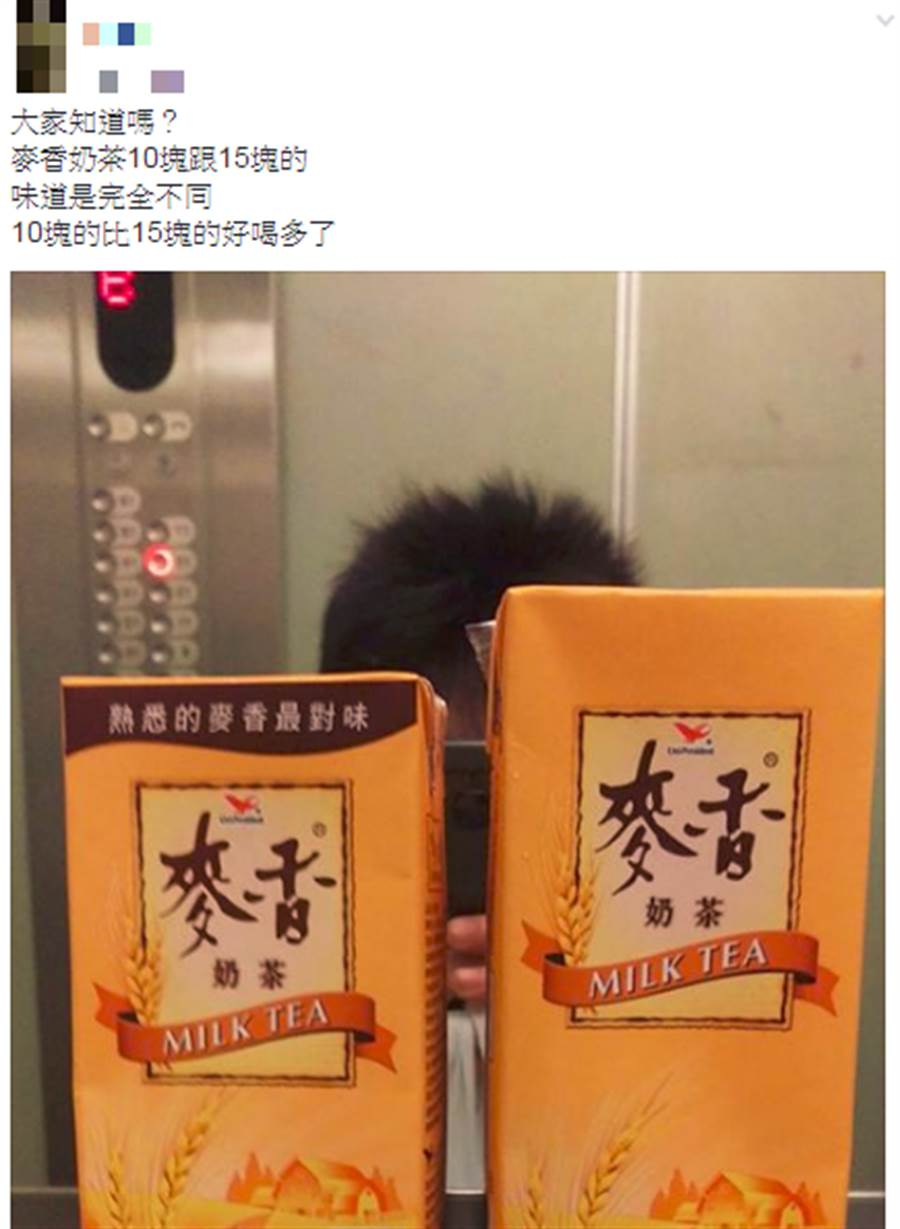milk tea: (487, 589, 843, 1227), (63, 677, 440, 1229)
